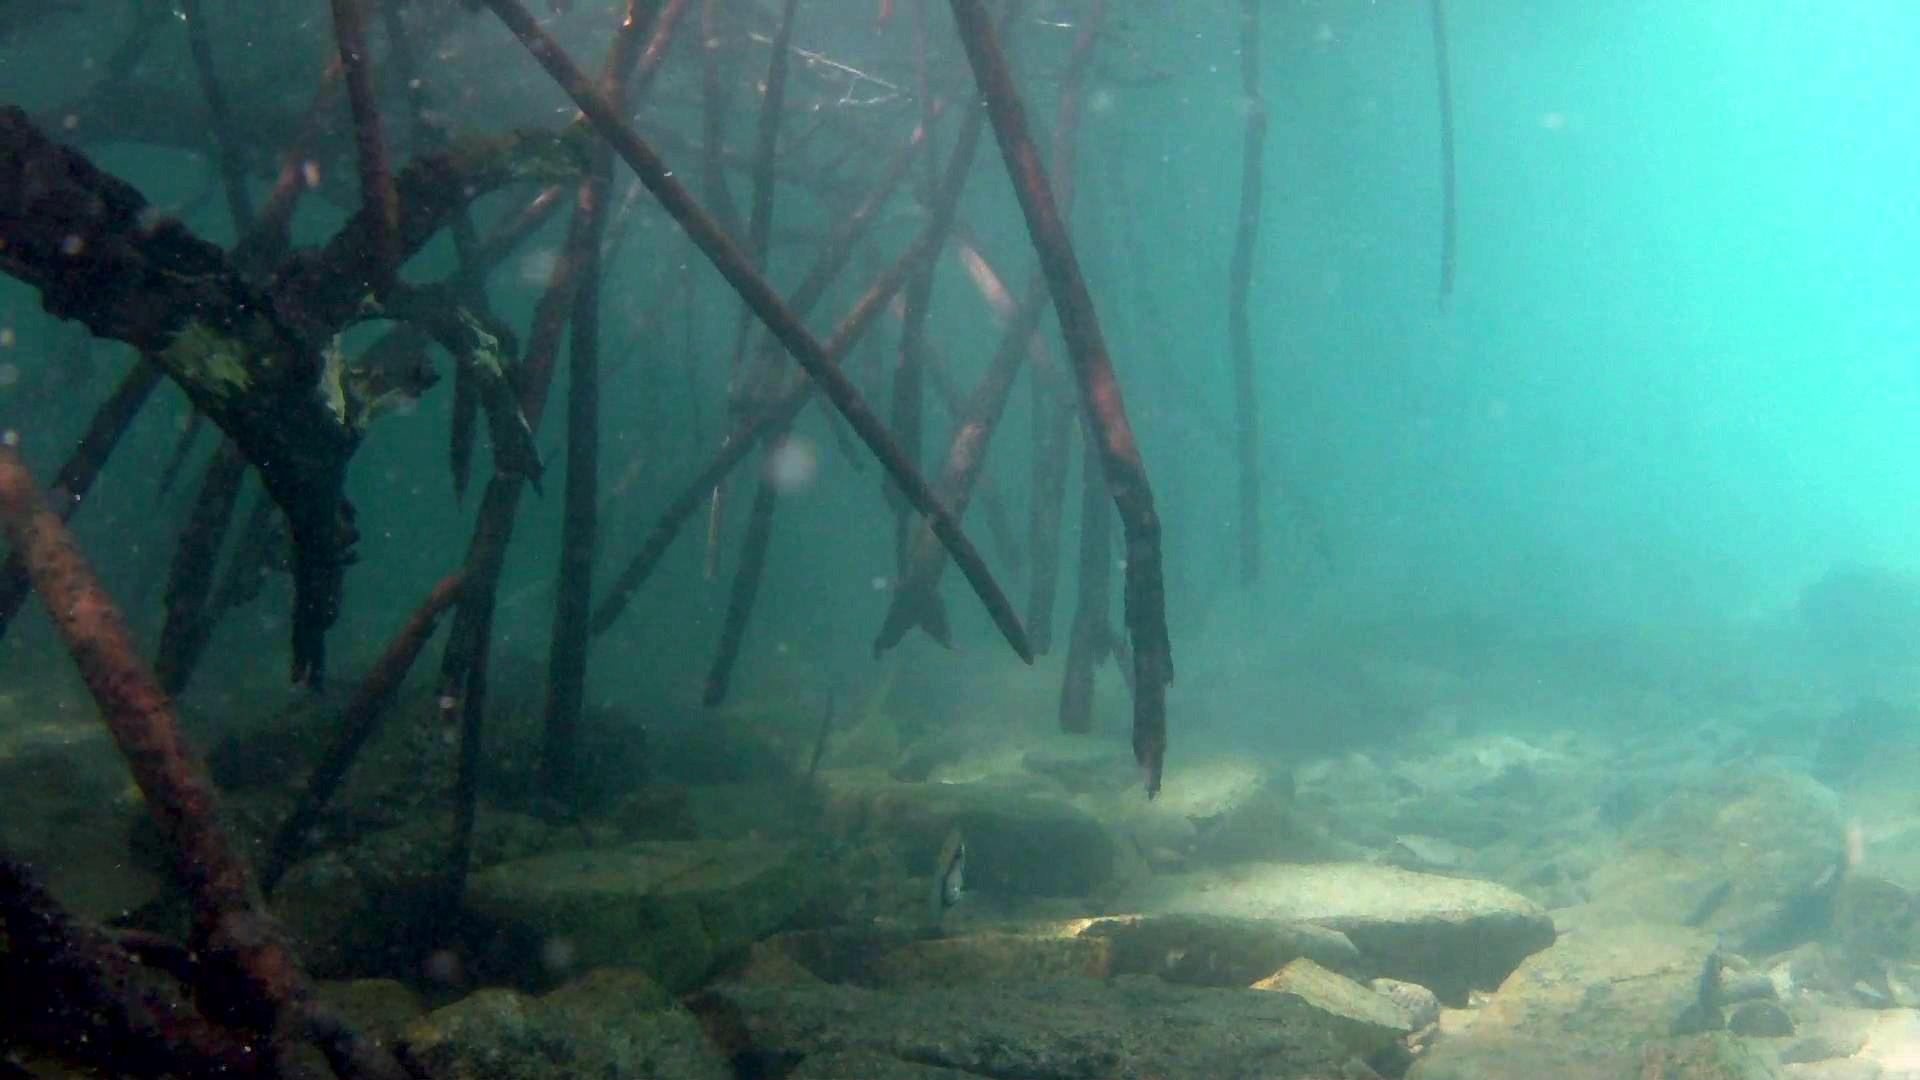chaetodon vagabundus: (923, 815, 971, 942)
